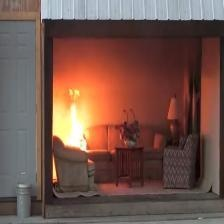fire: (52, 79, 107, 141)
